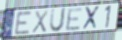1: (104, 5, 113, 30)
E: (64, 6, 84, 32), (14, 10, 33, 36)
U: (49, 6, 68, 33)
X: (82, 5, 101, 31), (31, 9, 49, 34)
